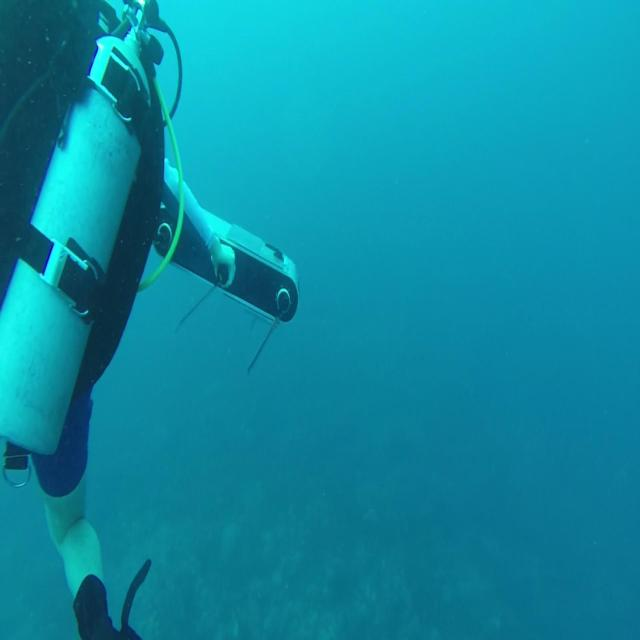human: (0, 1, 299, 637)
